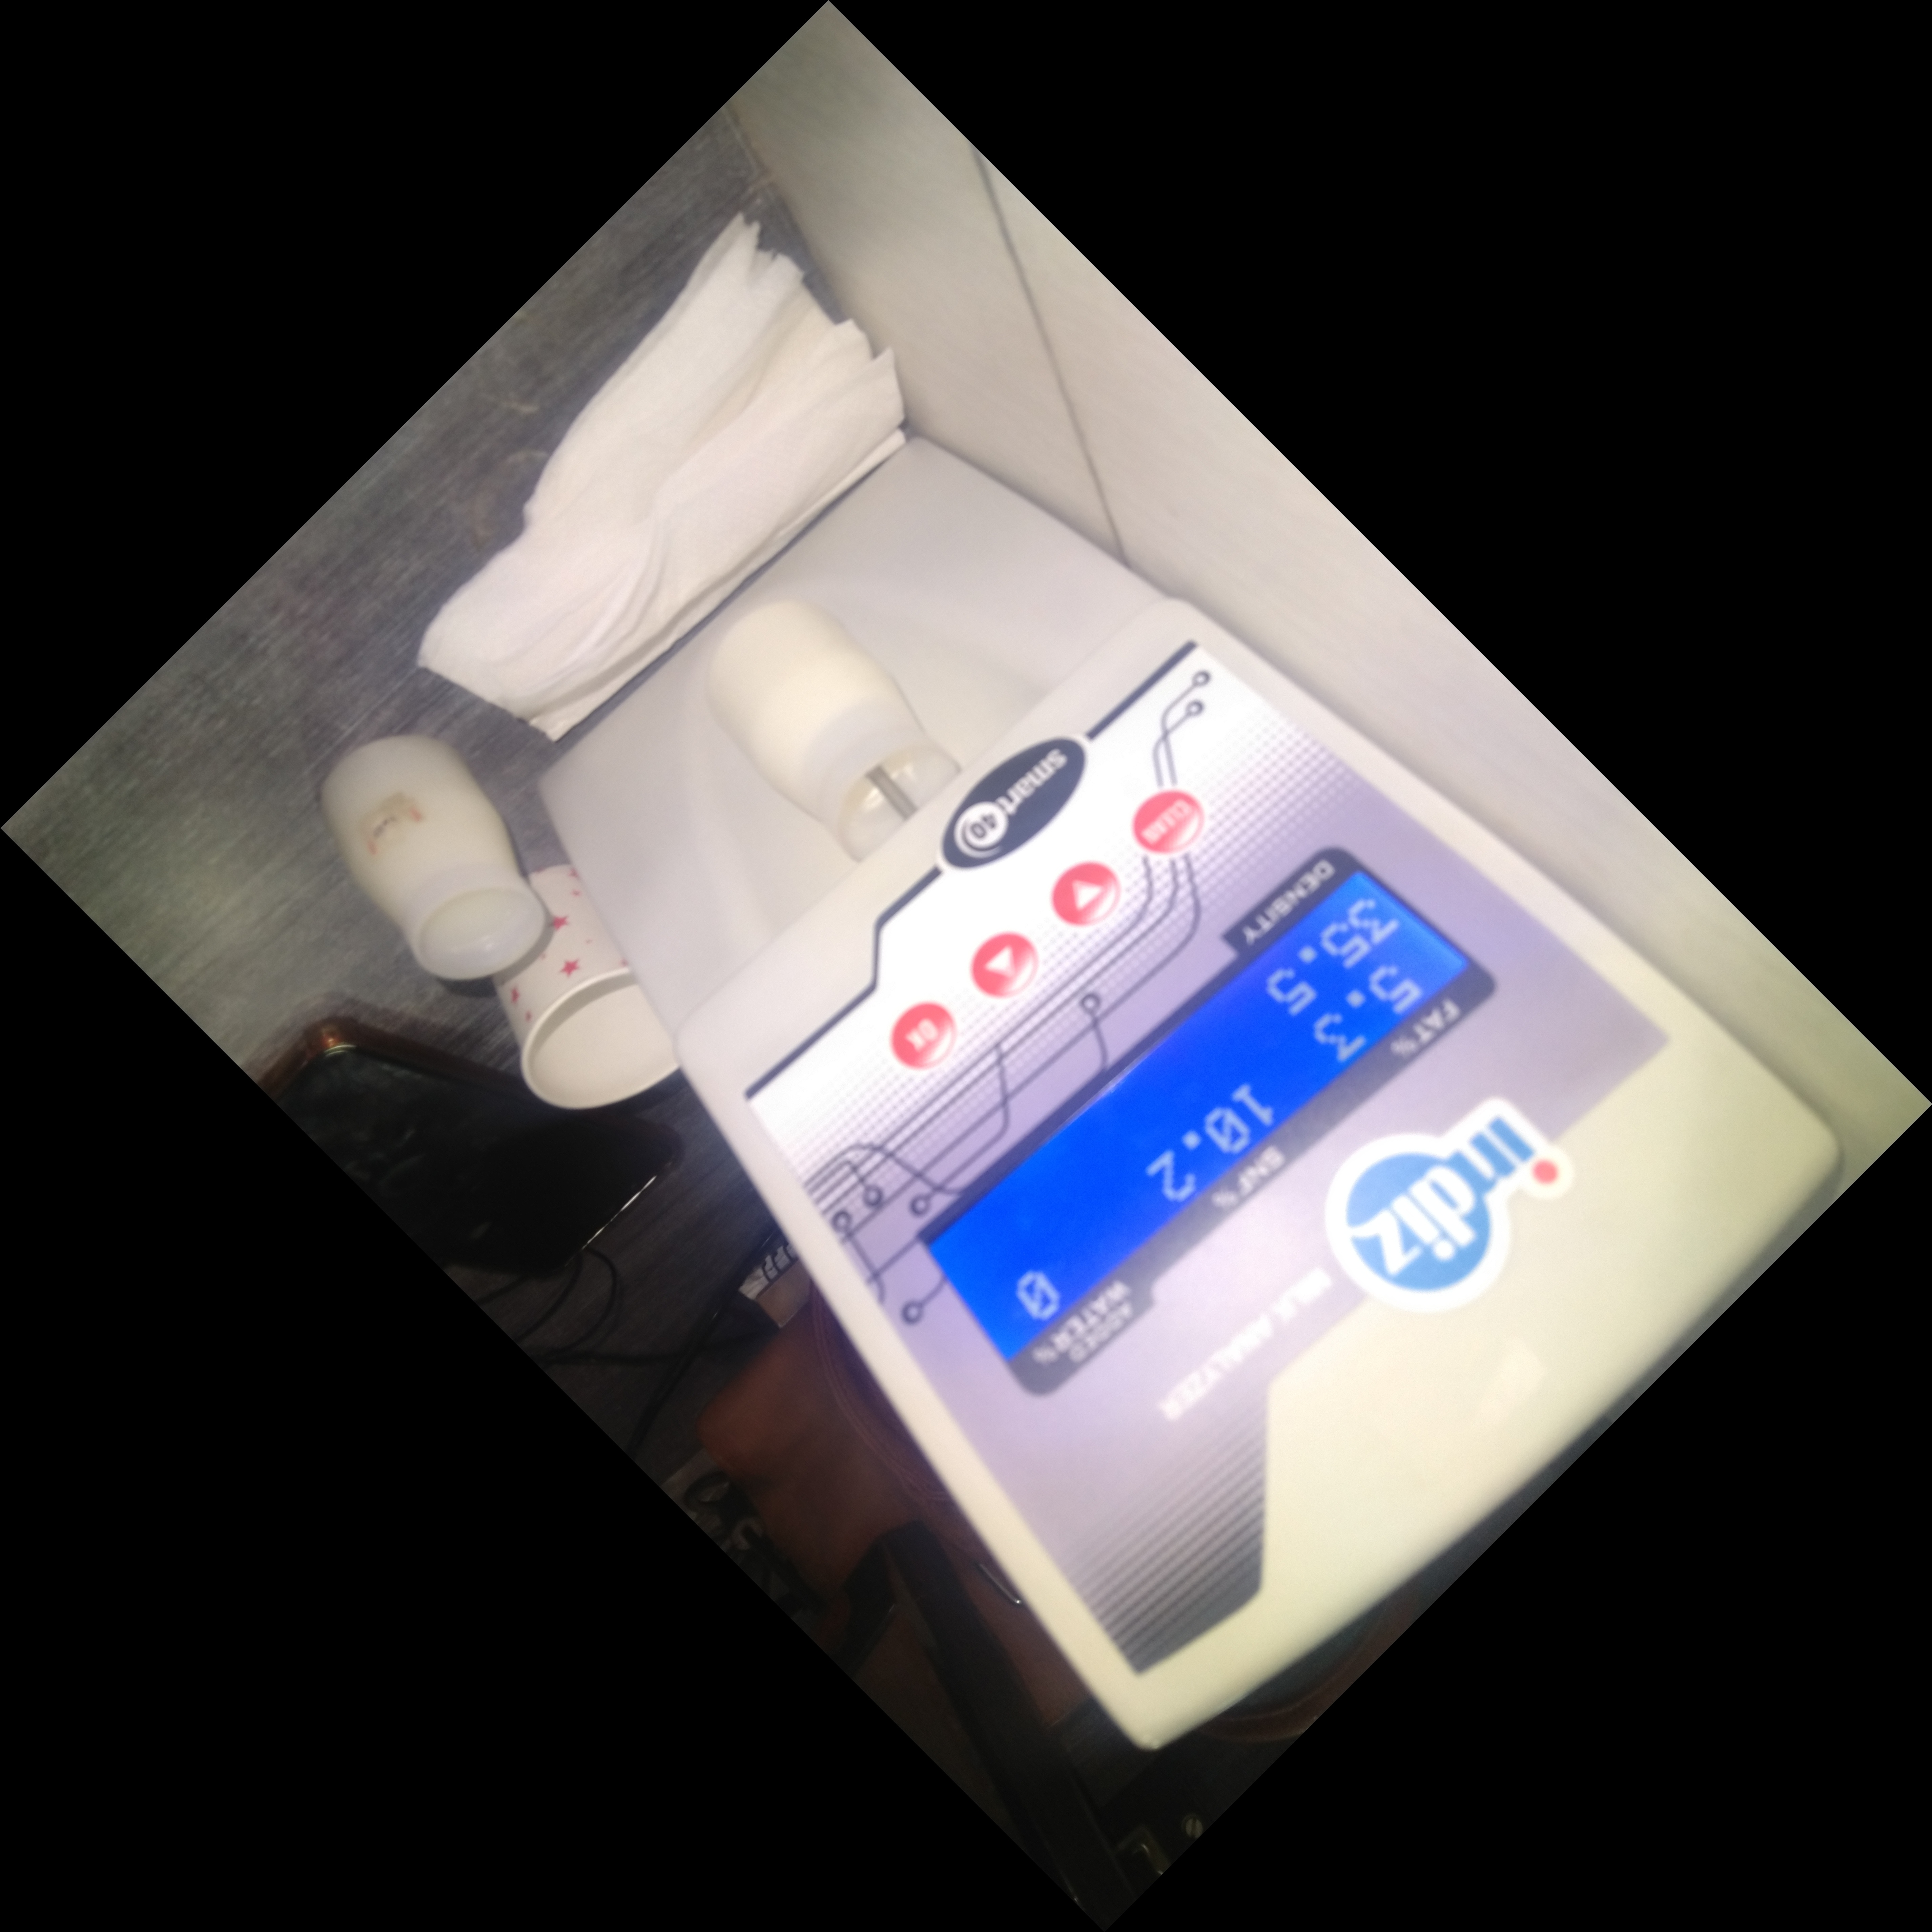lcd: (899, 851, 1513, 1394)
